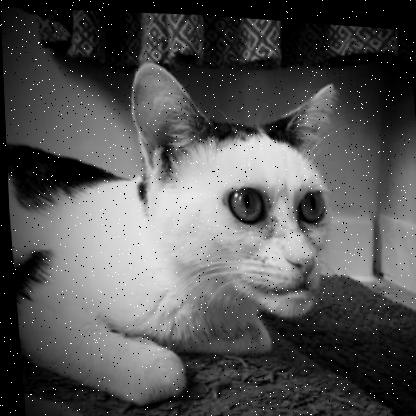cat: (1, 25, 374, 416)
person: (223, 168, 338, 320)
